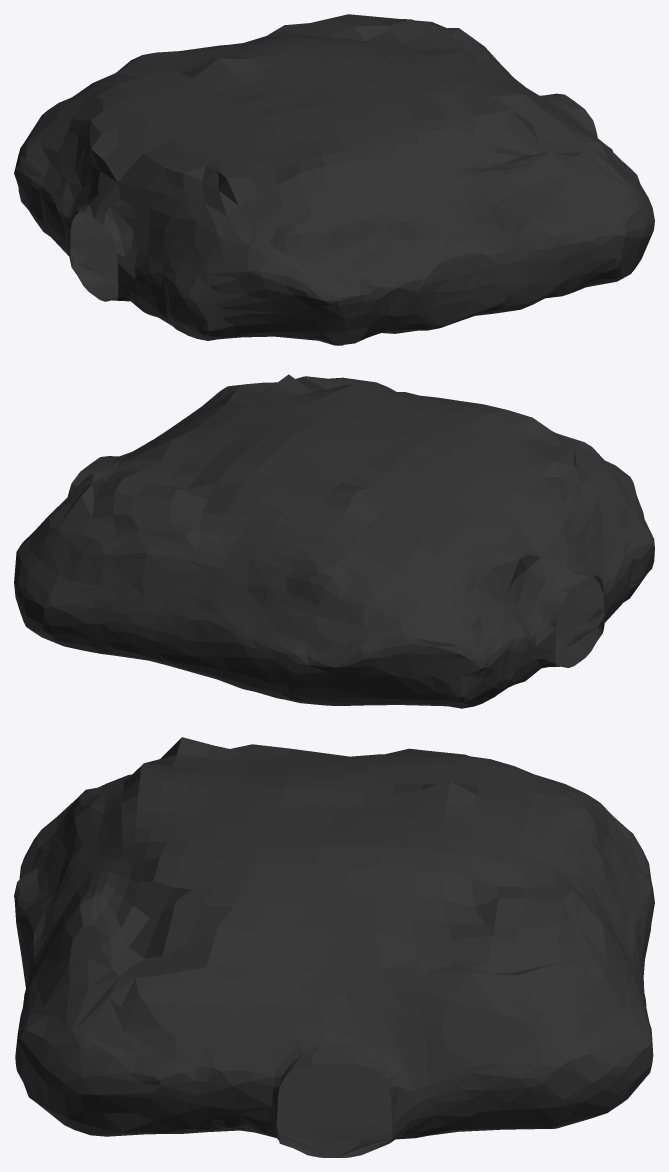
The model's file is Cave_Room.fbx.
3 renders of one model, top to bottom at view 1: azimuth 30°, elevation 25°; view 2: azimuth 150°, elevation 25°; view 3: azimuth 270°, elevation 25°, orthographic. The views are drawn at different scales.
Parts seen in each view (by area): view 1: Mouldar Straight.002; view 2: Mouldar Straight.002; view 3: Mouldar Straight.002.
Part boxes in pixels (x1,y1,x2,y2): Mouldar Straight.002: (14,14,654,345); Mouldar Straight.002: (14,374,654,708); Mouldar Straight.002: (14,737,654,1157).
Size of the model in its own units: 2300 by 772 by 2195.
